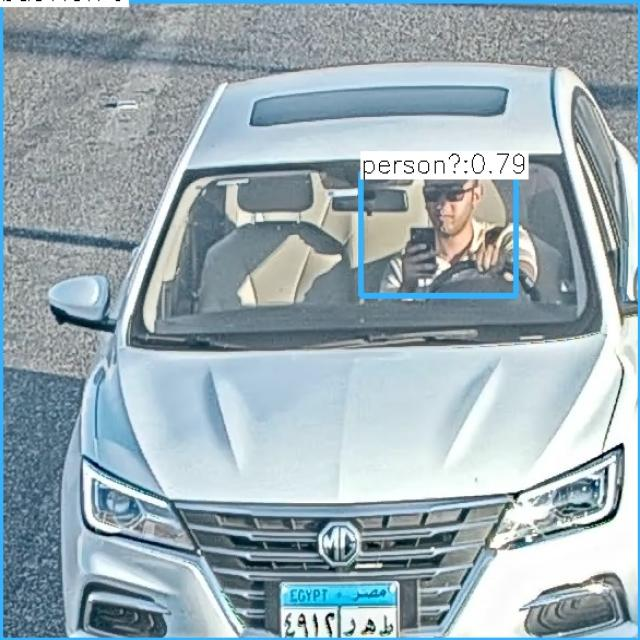windshield: (129, 165, 603, 338)
